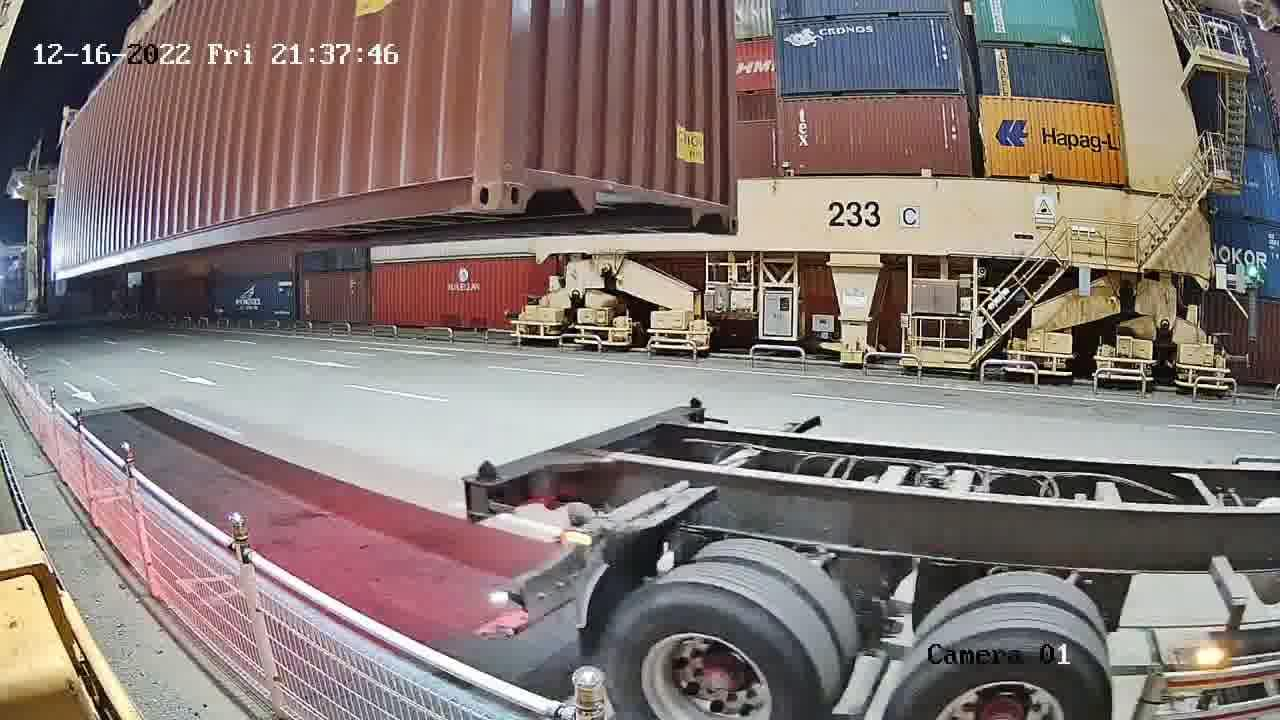Chassis: (467, 403, 704, 487)
Cone: (464, 458, 501, 517), (682, 396, 706, 424)
Hole_L: (500, 132, 569, 214)
Hole_R: (431, 127, 498, 214), (692, 158, 738, 231)
Tire: (602, 579, 829, 718), (888, 630, 1118, 716)
